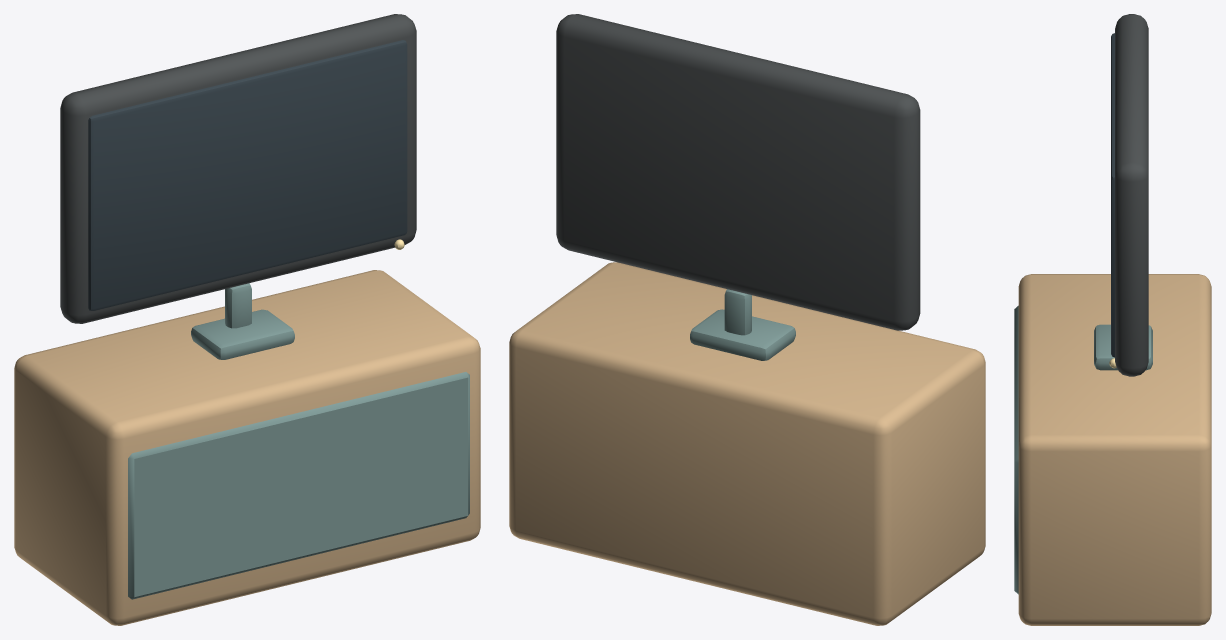
The picture shows the model from 3 angles, left to right: view 1: azimuth 30°, elevation 25°; view 2: azimuth 150°, elevation 25°; view 3: azimuth 270°, elevation 25°; orthographic projection. The views are drawn at different scales.
Parts seen in each view (by area): view 1: wood, screen, paint, rubber; view 2: wood, rubber, paint; view 3: wood, rubber, paint, screen.
Part boxes in pixels (x1,y1,x2,y2): wood: (14, 270, 480, 625); screen: (88, 40, 407, 310); paint: (128, 283, 469, 599); rubber: (60, 14, 416, 323); wood: (509, 262, 985, 625); rubber: (556, 14, 920, 330); paint: (690, 289, 795, 360); wood: (1018, 274, 1211, 625); rubber: (1115, 14, 1148, 376); paint: (1014, 305, 1152, 594); screen: (1111, 33, 1114, 357).
Size of the model in its own units: 0.96 by 1.2 by 0.47.
